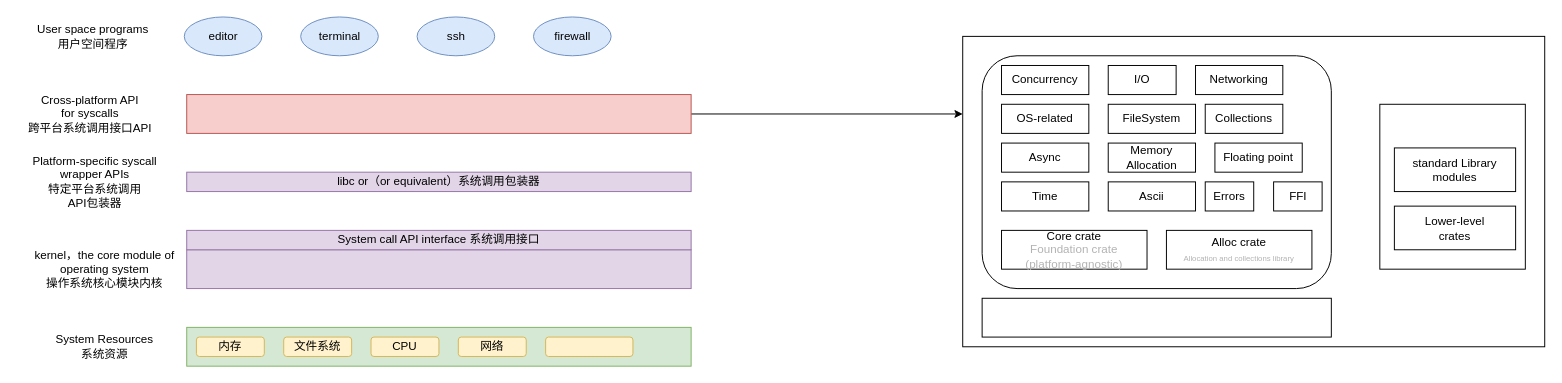
This 1562x383 diagram has some shape labels left out. Each missing label, with the box of its shape:
kernel 内核: (186, 249, 691, 289)
Legend 图例: (1379, 103, 1525, 269)
Rust language Primitives Rust 语言原语 implemented by Compiler: (981, 297, 1331, 337)
Rust standard library Rust标准库: (186, 94, 691, 133)
其他设备: (545, 336, 633, 356)
